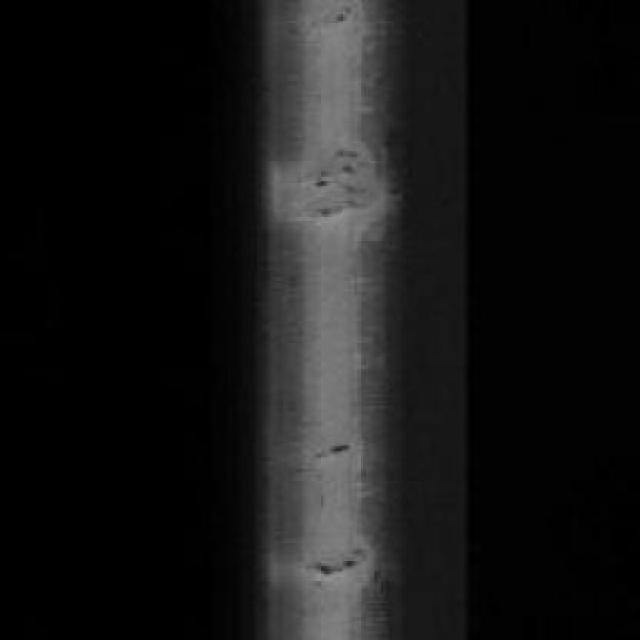defective: (250, 4, 460, 640)
